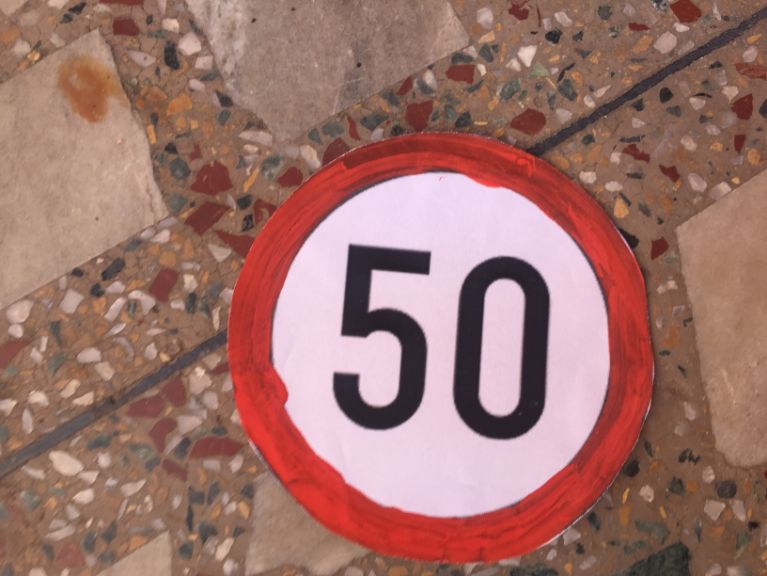speed-50: (227, 132, 653, 566)
